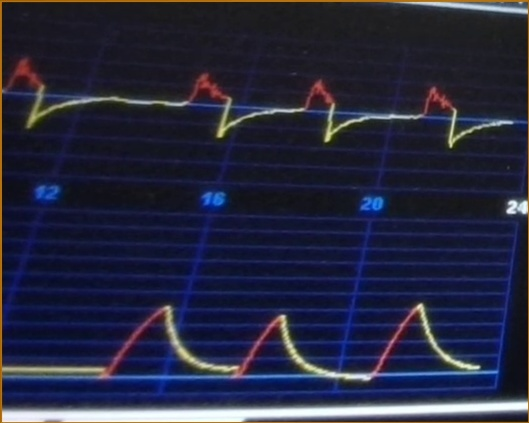Accumulation Flow: (2, 40, 510, 163)
Volume: (8, 290, 480, 388)
